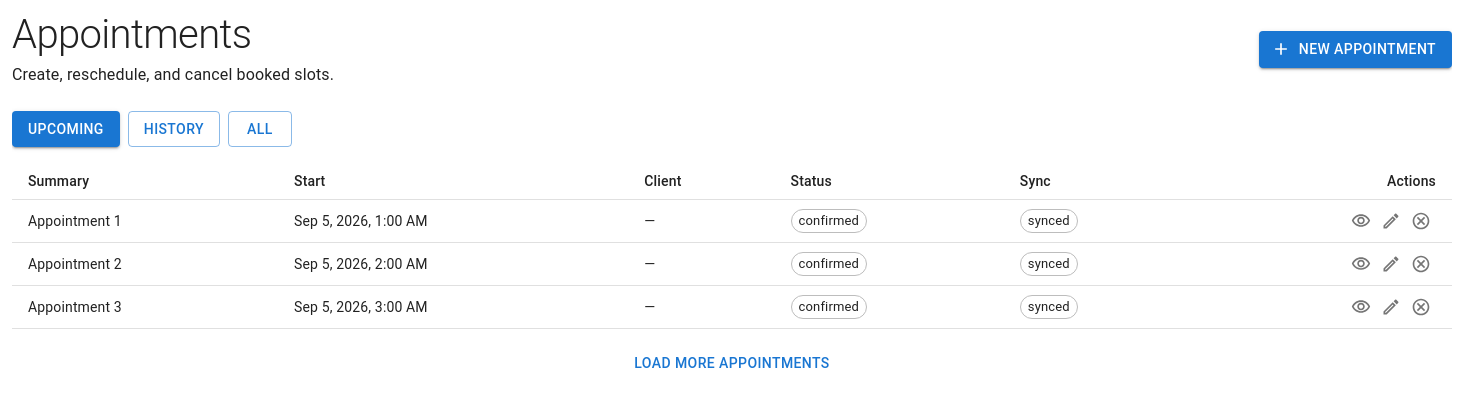
Test: AppointmentsPage pagination › traverses cursor pages without duplicates
This screenshot has width=1464, height=398.
Click the button "Load more appointments". click: coordinates (732, 363)
box: 626,345 -> 838,382
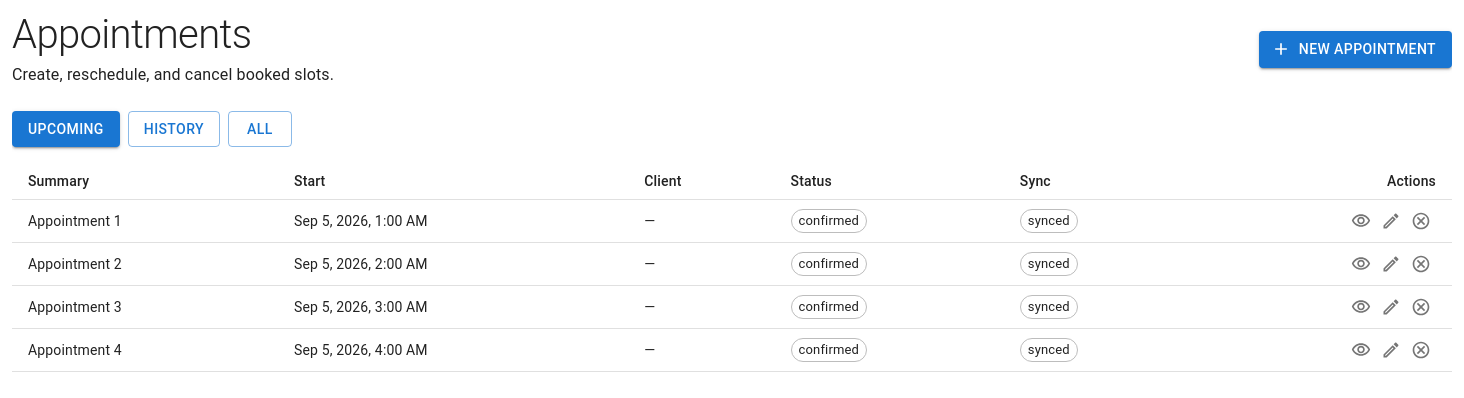
Expected: the text "Appointment 3" is shown 2 times
Expected: the text "Appointment 4" is shown 2 times
